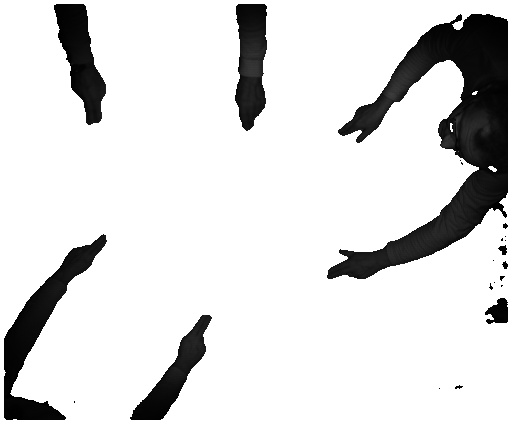hand: (69, 68, 111, 127), (62, 232, 111, 280), (232, 81, 271, 135), (179, 312, 215, 369), (336, 103, 386, 143), (322, 248, 384, 279)
